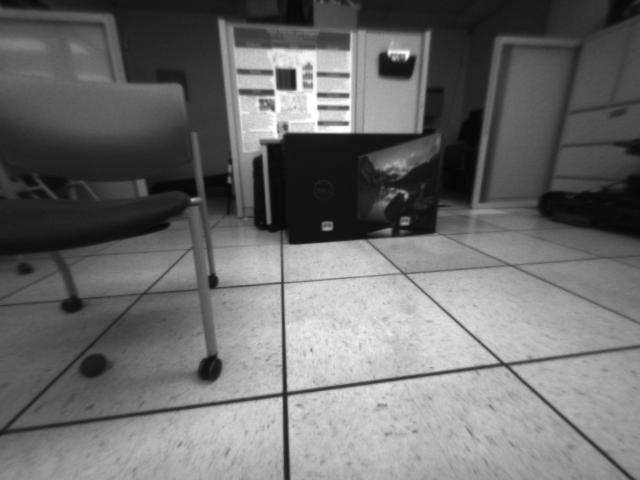dogtoy: (75, 347, 114, 381)
